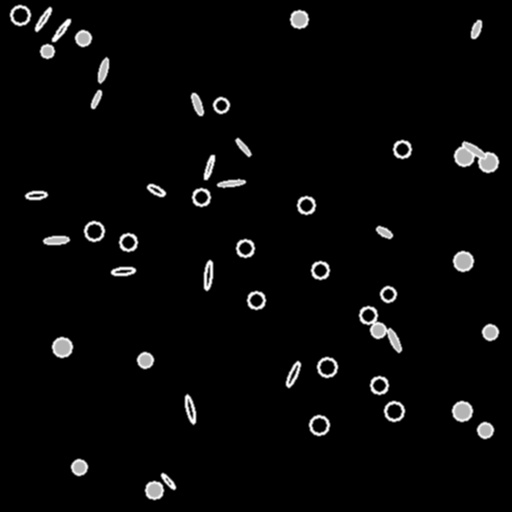pseudomonas: (461, 140, 487, 160), (284, 360, 302, 388), (51, 18, 71, 42), (34, 7, 52, 31), (183, 394, 197, 424), (386, 328, 402, 352), (203, 154, 215, 180), (190, 93, 204, 115), (160, 472, 176, 490), (235, 138, 251, 156), (97, 58, 109, 82), (146, 183, 166, 197), (469, 19, 483, 39), (203, 261, 213, 289), (375, 225, 393, 239), (90, 89, 102, 109), (218, 179, 244, 187), (43, 236, 69, 244), (112, 267, 134, 275), (25, 191, 47, 199)
synechocystis: (479, 153, 497, 171), (318, 358, 336, 376), (85, 222, 103, 240), (11, 6, 29, 24), (455, 147, 473, 165), (385, 402, 403, 420), (53, 338, 71, 356), (453, 402, 471, 420), (310, 416, 328, 434), (454, 252, 472, 270), (248, 292, 264, 308), (146, 482, 162, 498), (237, 240, 253, 256), (291, 11, 307, 27), (120, 234, 136, 250), (371, 377, 387, 393), (193, 189, 209, 205), (394, 141, 410, 157), (312, 262, 328, 278), (360, 307, 376, 323), (298, 197, 314, 213), (371, 323, 385, 337), (72, 460, 86, 474), (478, 423, 492, 437), (138, 353, 152, 367), (214, 98, 228, 112), (483, 325, 497, 339), (381, 287, 395, 301), (76, 31, 90, 45), (41, 45, 53, 57)
